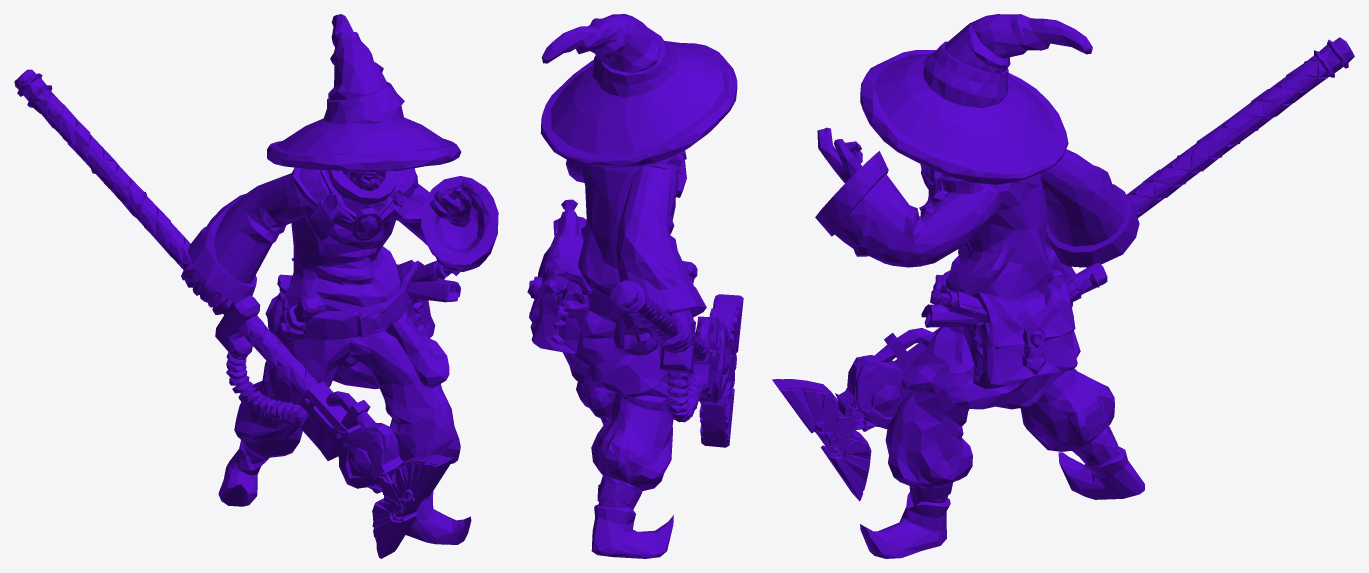
Rendered from wizard.obj.
3 renders of one model, left to right at view 1: azimuth 30°, elevation 25°; view 2: azimuth 150°, elevation 25°; view 3: azimuth 270°, elevation 25°, orthographic. The views are drawn at different scales.
Visible parts, largest first — view 1: wizard; view 2: wizard; view 3: wizard.
Boxes of the visible parts, left/top/right/bottom form: wizard: left=14, top=14, right=498, bottom=558; wizard: left=527, top=14, right=743, bottom=558; wizard: left=772, top=14, right=1354, bottom=558.
Bounding box in the file's own units: 2.79 × 4.87 × 5.
